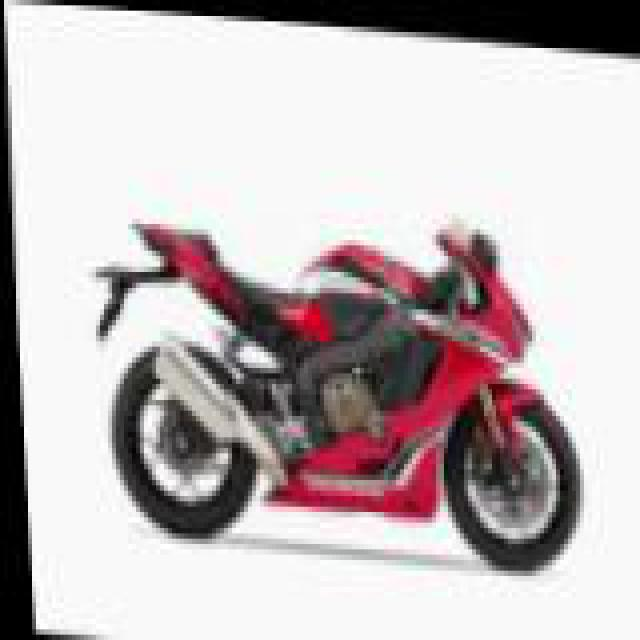CBR500R: (94, 184, 586, 573)
